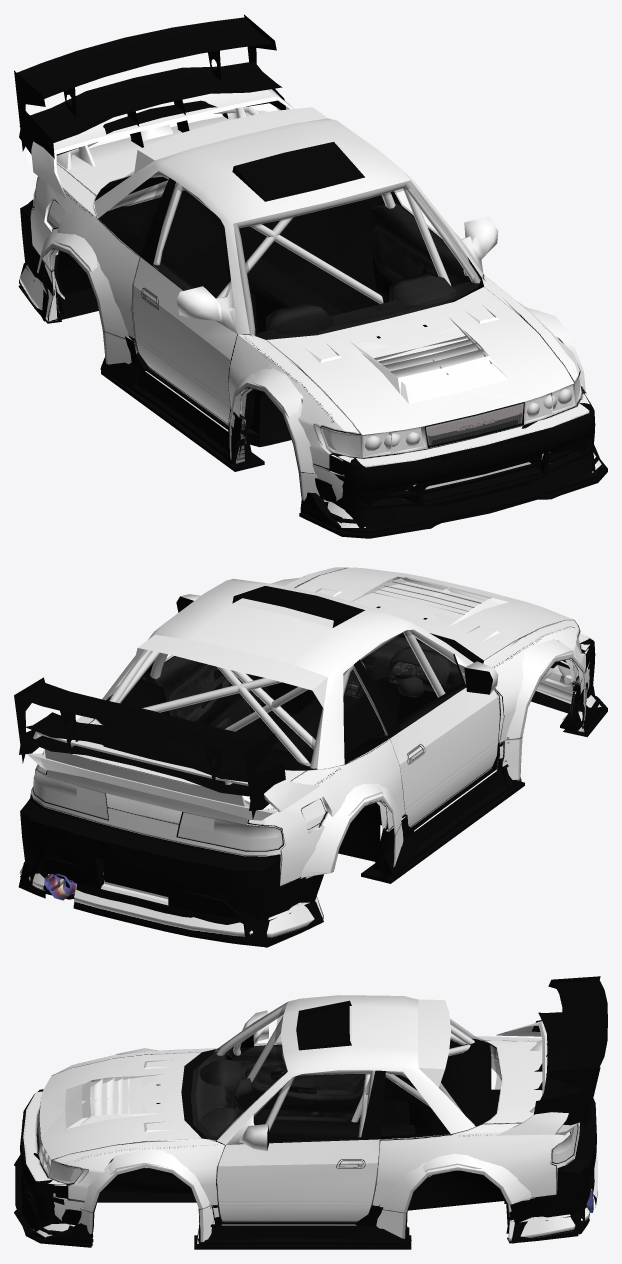
The picture shows the model from 3 angles, top to bottom: view 1: azimuth 30°, elevation 25°; view 2: azimuth 150°, elevation 25°; view 3: azimuth 270°, elevation 25°; orthographic projection. The views are drawn at different scales.
Parts seen in each view (by area): view 1: FR_S13_frame, FR_S13_body, FR_S13_hood_sport_alt, FR_S13_326_bumper_F, FR_S13_spoiler_BCL, FR_S13_door_R, FR_S13_spoiler_UR2, FR_S13_hood_race, FR_S13_BN_fenderflare_RR, FR_S13_rollcage, FR_S13_ORL_skirt_R, FR_S13_BN2_fender_R (+37 smaller); view 2: FR_S13_body, FR_S13_326_bumper_R, FR_S13_frame, FR_S13_door_R, FR_S13_spoiler_BCL, FR_S13_ORL_bumper_R, FR_S13_BN_fenderflare_RR, FR_S13_rollcage, FR_S13_ORL_skirt_R, FR_S13_hood_sport_alt, FR_S13_spoiler_UR2, FR_S13_BN_bumper_R (+34 smaller); view 3: FR_S13_body, FR_S13_door_L, FR_S13_frame, FR_S13_BN_fenderflare_RL, FR_S13_hood_sport_alt, FR_S13_doorpanel_R, FR_S13_spoiler_BCL, FR_S13_ORL_skirt_L, FR_S13_BN2_fender_L, FR_S13_trunk, FR_S13_RB2_fenderflare_RL, FR_S13_hood_race (+30 smaller).
Part boxes in pixels (x1,y1,x2,y2): FR_S13_frame: (57, 176, 480, 339); FR_S13_body: (32, 118, 483, 341); FR_S13_hood_sport_alt: (266, 287, 573, 434); FR_S13_326_bumper_F: (333, 393, 595, 533); FR_S13_spoiler_BCL: (14, 14, 276, 151); FR_S13_door_R: (132, 257, 237, 424); FR_S13_spoiler_UR2: (19, 61, 282, 158); FR_S13_hood_race: (300, 303, 524, 425); FR_S13_BN_fenderflare_RR: (30, 164, 139, 338); FR_S13_rollcage: (108, 180, 480, 425); FR_S13_ORL_skirt_R: (100, 336, 264, 471); FR_S13_BN2_fender_R: (228, 334, 361, 469); FR_S13_body: (31, 578, 483, 876); FR_S13_326_bumper_R: (18, 799, 322, 947); FR_S13_frame: (97, 636, 463, 861); FR_S13_door_R: (388, 654, 499, 827); FR_S13_spoiler_BCL: (14, 677, 276, 819); FR_S13_ORL_bumper_R: (26, 798, 323, 938); FR_S13_BN_fenderflare_RR: (247, 739, 405, 886); FR_S13_rollcage: (117, 630, 445, 770); FR_S13_ORL_skirt_R: (361, 758, 524, 883); FR_S13_hood_sport_alt: (296, 567, 573, 660); FR_S13_spoiler_UR2: (25, 712, 285, 798); FR_S13_BN_bumper_R: (19, 799, 323, 938); FR_S13_body: (181, 995, 579, 1204); FR_S13_door_L: (217, 1139, 379, 1221); FR_S13_frame: (191, 1038, 505, 1210); FR_S13_BN_fenderflare_RL: (372, 1122, 571, 1205); FR_S13_hood_sport_alt: (41, 1052, 201, 1159); FR_S13_doorpanel_R: (217, 1045, 365, 1122); FR_S13_spoiler_BCL: (548, 976, 607, 1127); FR_S13_ORL_skirt_L: (194, 1206, 411, 1249); FR_S13_BN2_fender_L: (52, 1140, 225, 1205); FR_S13_trunk: (483, 1040, 571, 1132); FR_S13_RB2_fenderflare_RL: (376, 1158, 531, 1238); FR_S13_hood_race: (39, 1054, 183, 1140).
Bounding box in the file's own units: 1.94 × 3.88 × 1.25.
Materials: 18 (6 with a texture image).
